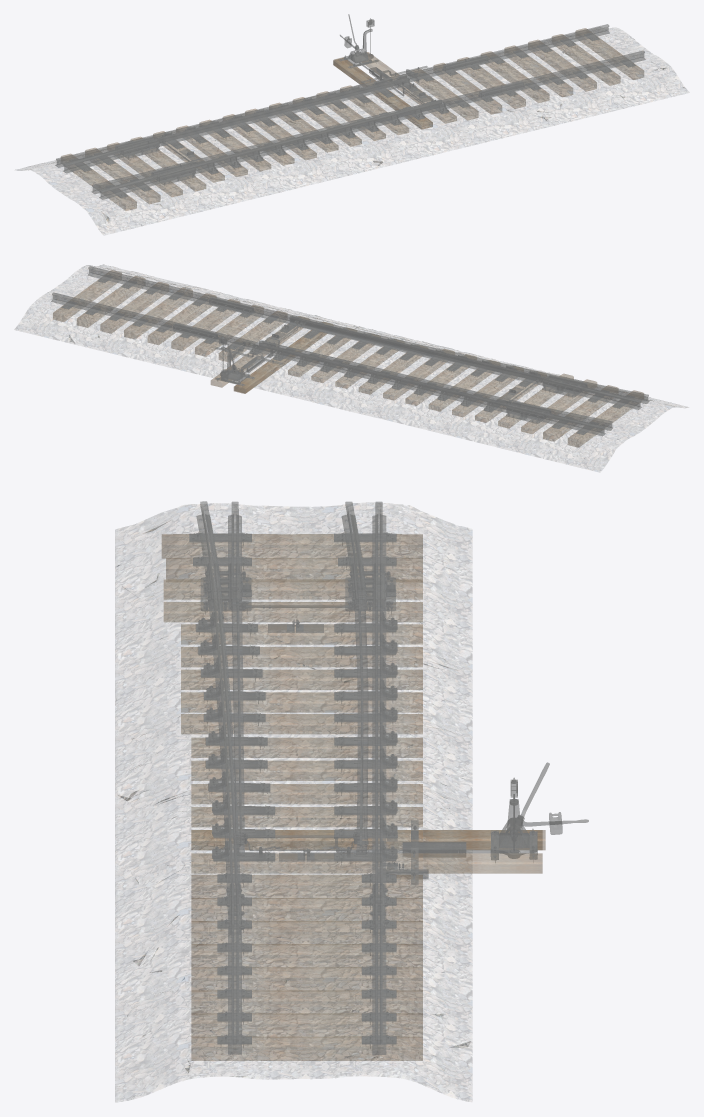
Rendered from cactus.glb.
3 views of the same model, one above another, from view 1: azimuth 30°, elevation 25°; view 2: azimuth 150°, elevation 25°; view 3: azimuth 270°, elevation 25° (orthographic). The views are drawn at different scales.
Visible parts, largest first — view 1: Стрелочный перевод ЖД_CGBandit_com; view 2: Стрелочный перевод ЖД_CGBandit_com; view 3: Стрелочный перевод ЖД_CGBandit_com.
Boxes of the visible parts, x1,y1,x2,y2 form: Стрелочный перевод ЖД_CGBandit_com: (17, 14, 689, 235); Стрелочный перевод ЖД_CGBandit_com: (14, 264, 688, 472); Стрелочный перевод ЖД_CGBandit_com: (115, 501, 588, 1102).
Size of the model in its own units: 14.88 by 1.37 by 5.2.
19 materials, 19 textured.
